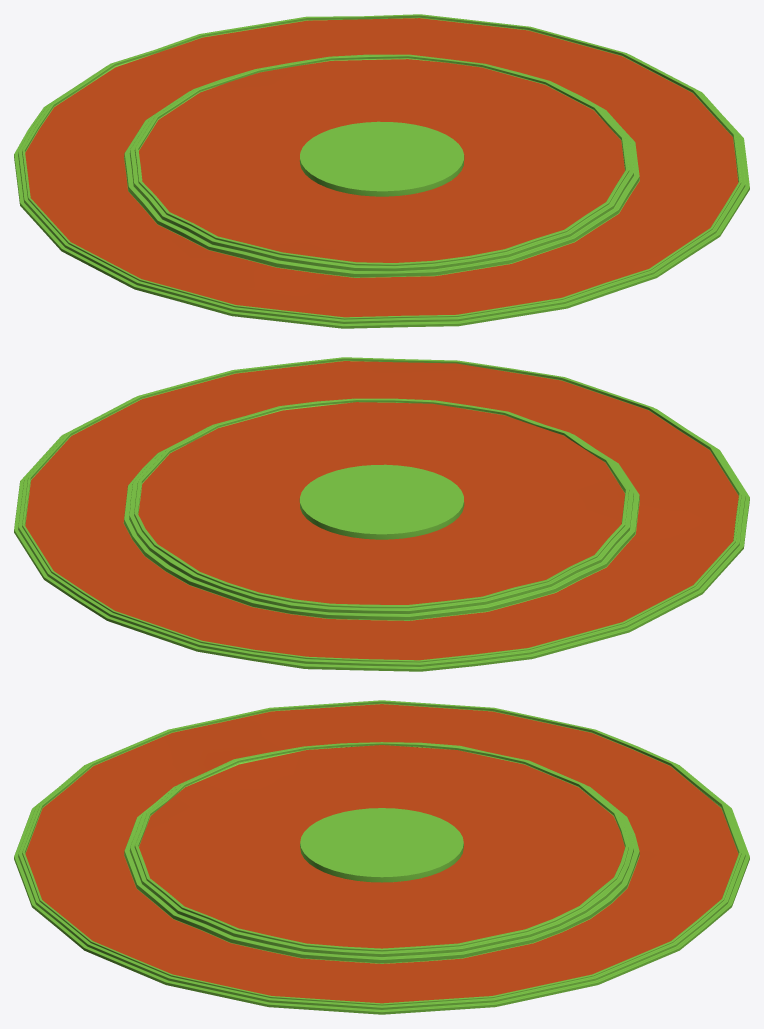
File: AltarPlatformFinal.fbx
3 renders of one model, top to bottom at view 1: azimuth 30°, elevation 25°; view 2: azimuth 150°, elevation 25°; view 3: azimuth 270°, elevation 25°, orthographic.
Parts seen in each view (by area): view 1: platform_low (×2); view 2: platform_low (×2); view 3: platform_low (×2).
Boxes of the visible parts, x1,y1,x2,y2 form: platform_low (×2): (14,14,749,328); platform_low (×2): (14,357,749,671); platform_low (×2): (14,700,749,1014).
Bounding box in the file's own units: 800 × 20.52 × 800.
